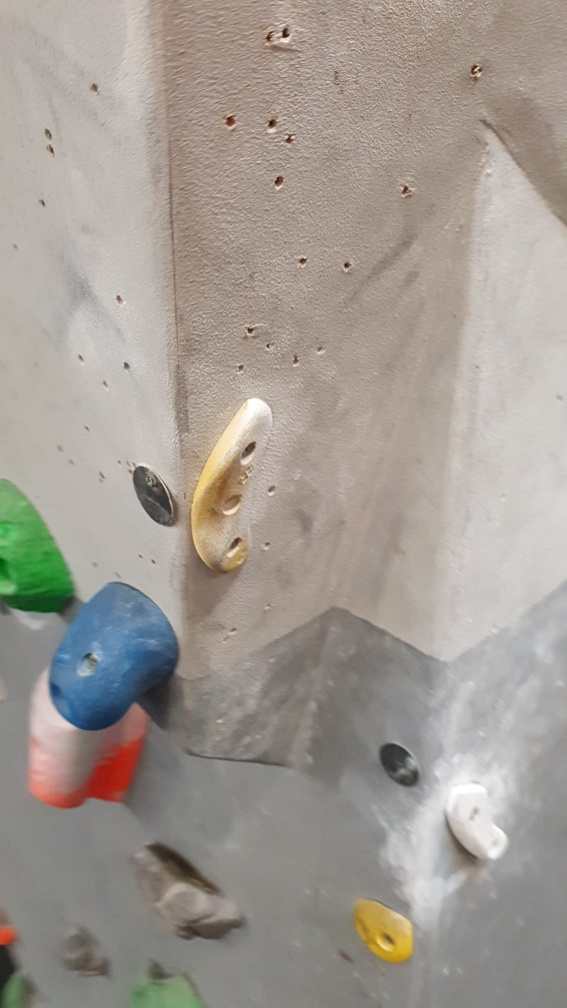Hand Start: (128, 459, 180, 532), (376, 741, 427, 790)
Jug: (121, 839, 250, 948)
Pinch: (26, 653, 154, 810)
